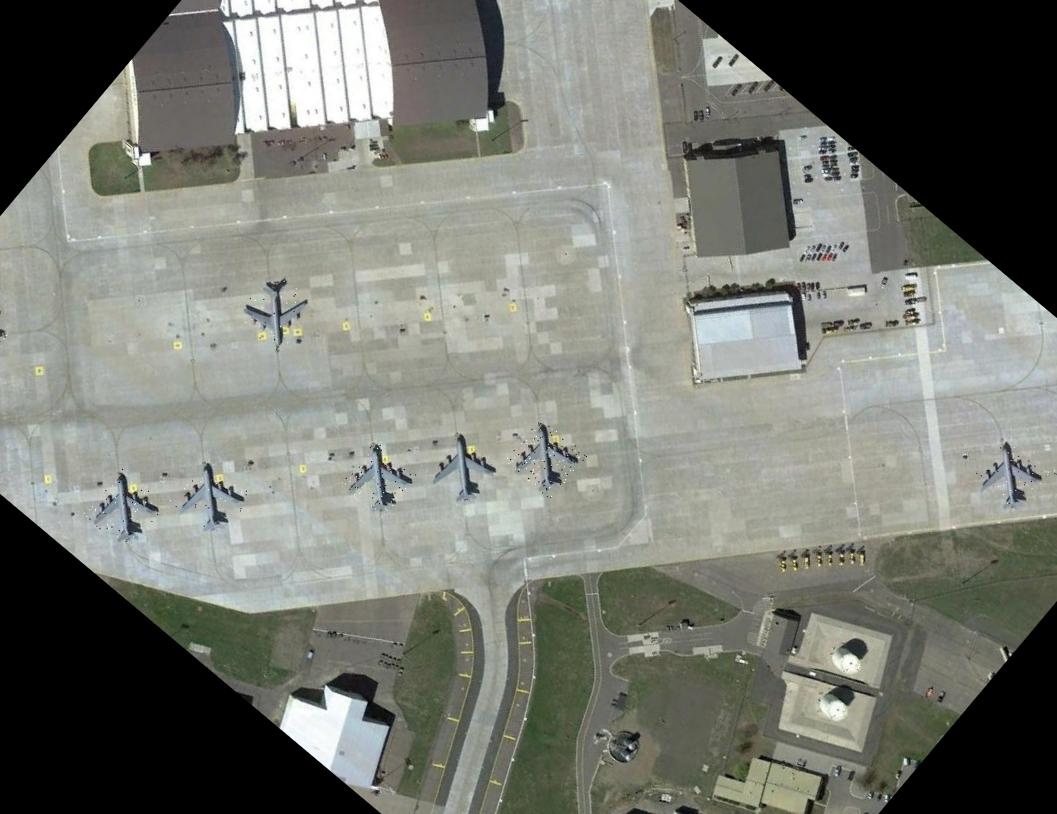A14: (166, 457, 254, 544), (232, 268, 318, 356), (420, 429, 506, 514), (503, 417, 588, 501), (81, 468, 165, 552), (969, 436, 1048, 516), (339, 441, 416, 518)
